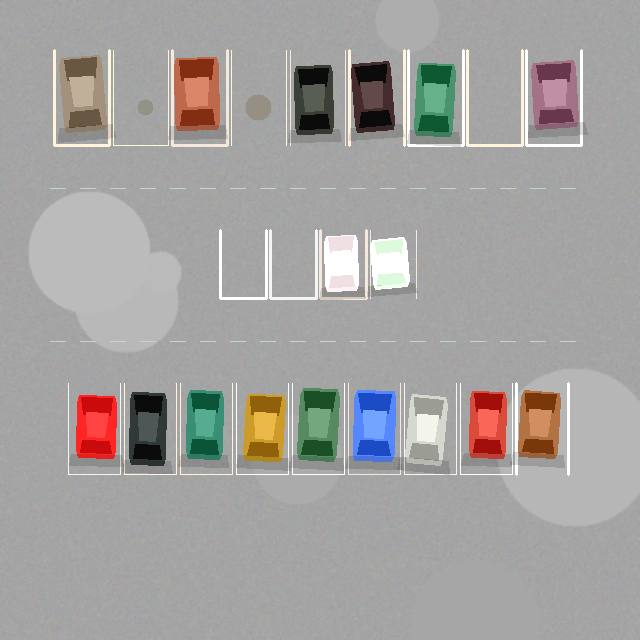space-empty: (113, 50, 168, 145), (231, 50, 286, 145), (467, 50, 522, 145), (220, 230, 266, 298), (270, 230, 316, 298)
space-occupied: (54, 50, 109, 145), (172, 50, 227, 145), (290, 50, 345, 145), (349, 50, 404, 145), (408, 50, 463, 145), (526, 50, 581, 145), (68, 383, 120, 474), (124, 383, 176, 474), (180, 383, 232, 474), (236, 383, 288, 474), (292, 383, 344, 474), (348, 383, 400, 474), (404, 383, 456, 474), (460, 383, 512, 474), (516, 383, 568, 474), (320, 230, 366, 298), (370, 230, 416, 298)
